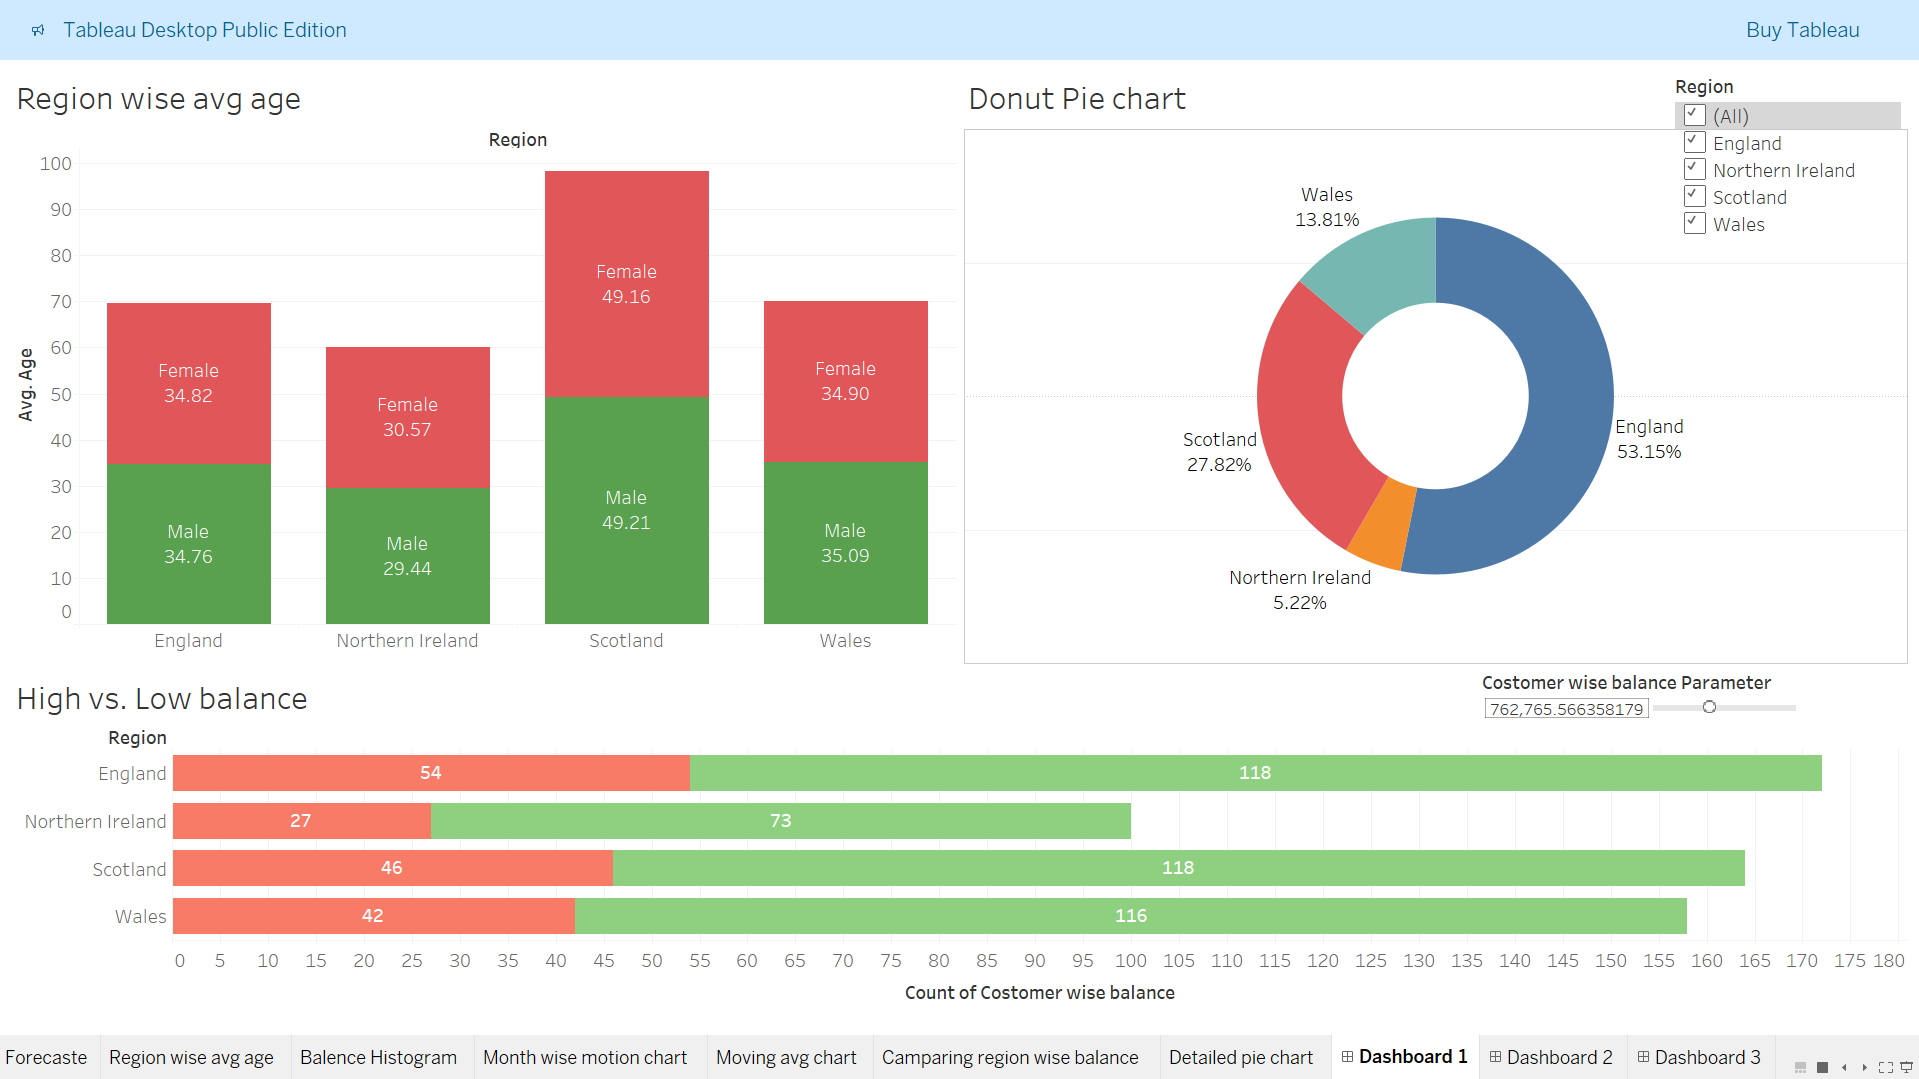

What the dashboard file says about the page in this screenshot:
{"tool":"tableau","page":{"name":"Dashboard 1","canvas":[1000,1000],"units":"permille","ordinal":0},"visuals":[{"type":"worksheet","title":"Region wise avg age","mark":"Automatic","rows":["Age"],"cols":["Region"],"box":[4.2,8.2,495.8,615.7]},{"type":"worksheet","title":"Donut Pie chart","mark":"Pie","rows":["Age","Age"],"box":[499.9,8.2,495.9,615.7]},{"type":"filter","title":"Region wise avg age","param":"[federated.0ta6q1i1do6p6o185keex0jybwxv].[none:Region:nk]","box":[872.2,13.4,117.8,241.3]},{"type":"worksheet","title":"High vs. Low balance","mark":"Bar","rows":["Region"],"cols":["Calculation_1801158417256693761"],"box":[4.2,623.9,991.7,367.9]},{"type":"parameter","param":"[Parameters].[Costomer wise balance Parameter]","box":[771.8,624.7,165.2,76.4]}]}

Visuals, with their boxes on the dashboard's canvas, which has no fixed pixel size, in thousandths of its width and height (x1, y1, x2, y2). These are canvas units, not pixel positions in the 1919x1079 screenshot, which may show the page scaled, cropped or inside an application window:
"Region wise avg age" worksheet: <bbox>4, 8, 500, 624</bbox>
"Donut Pie chart" worksheet (Pie marks): <bbox>500, 8, 996, 624</bbox>
"Region wise avg age" filter: <bbox>872, 13, 990, 255</bbox>
"High vs. Low balance" worksheet (Bar marks): <bbox>4, 624, 996, 992</bbox>
parameter: <bbox>772, 625, 937, 701</bbox>
